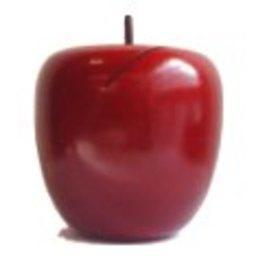apple: (35, 42, 222, 239)
